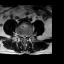CCS_stenosis: (23, 33, 25, 40)
LFS_stenosis: (26, 32, 28, 38)
LLS_normal: (25, 33, 26, 39)
RFS_normal: (20, 32, 22, 38)
RLS_normal: (21, 33, 23, 39)
